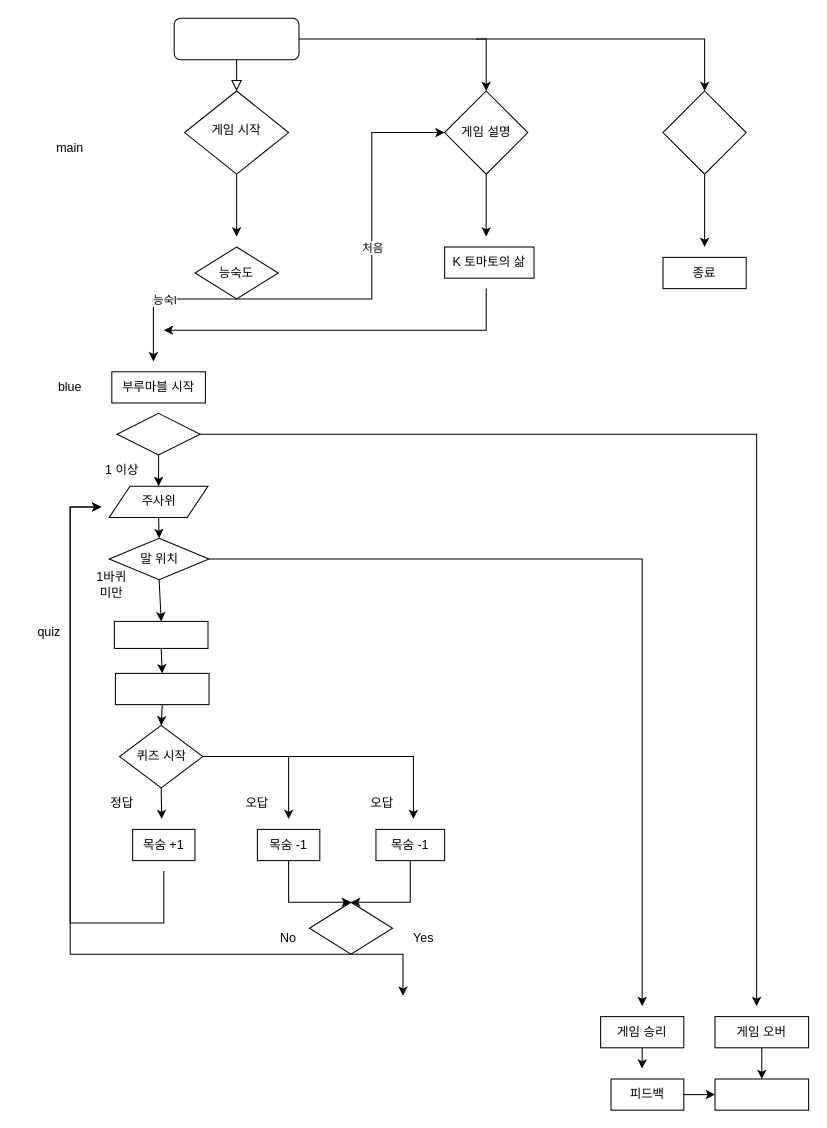
Some shapes in this 827 by 1128 pixel diagram are drawn without their labels. The box of each missing label's shape, as (x1, y1, x2, y2) in pixels:
게임 종료: (662, 90, 746, 174)
메인 화면으로: (714, 1078, 809, 1110)
목숨: (116, 412, 200, 455)
상황 설명: (114, 672, 209, 705)
실행: (173, 17, 299, 60)
재도전: (308, 901, 393, 954)
퀴즈 장면: (113, 620, 208, 648)
